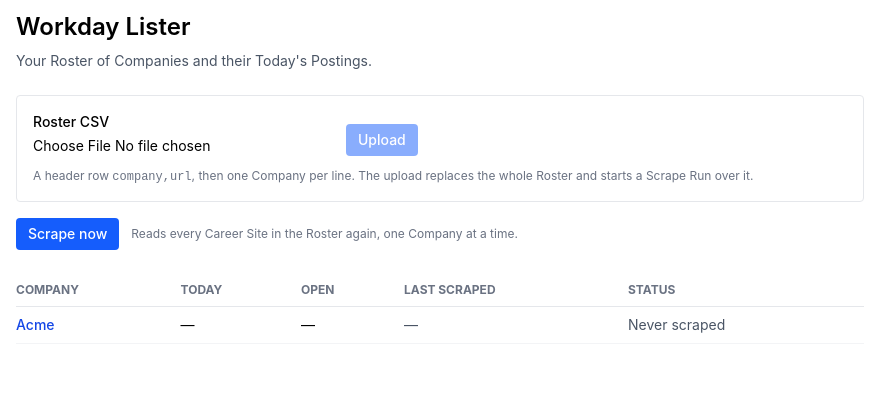
Test: reports why a run could not be started
The image size is (881, 413).
Expected: the text "Never scraped" is shown, [628,306,864,344]
Click the button "Scrape now" at [68, 234], box [16,218,119,250]
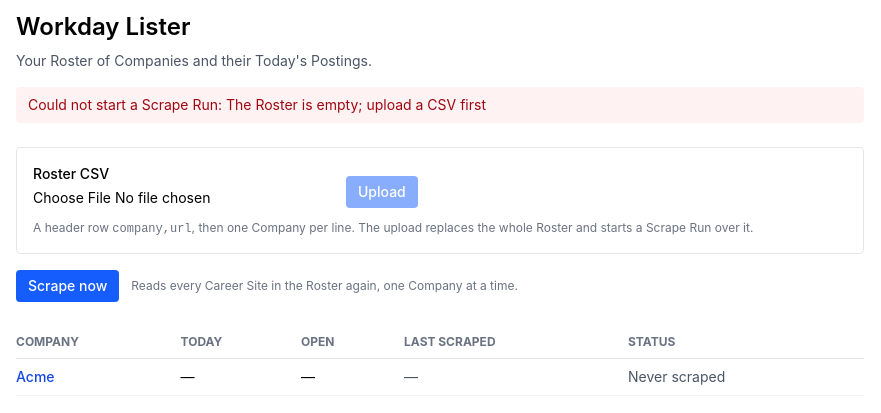
Expected: the message reads "Could not start a Scrape Run: The Roster is empty; upload a CSV first", [28,96,486,113]
